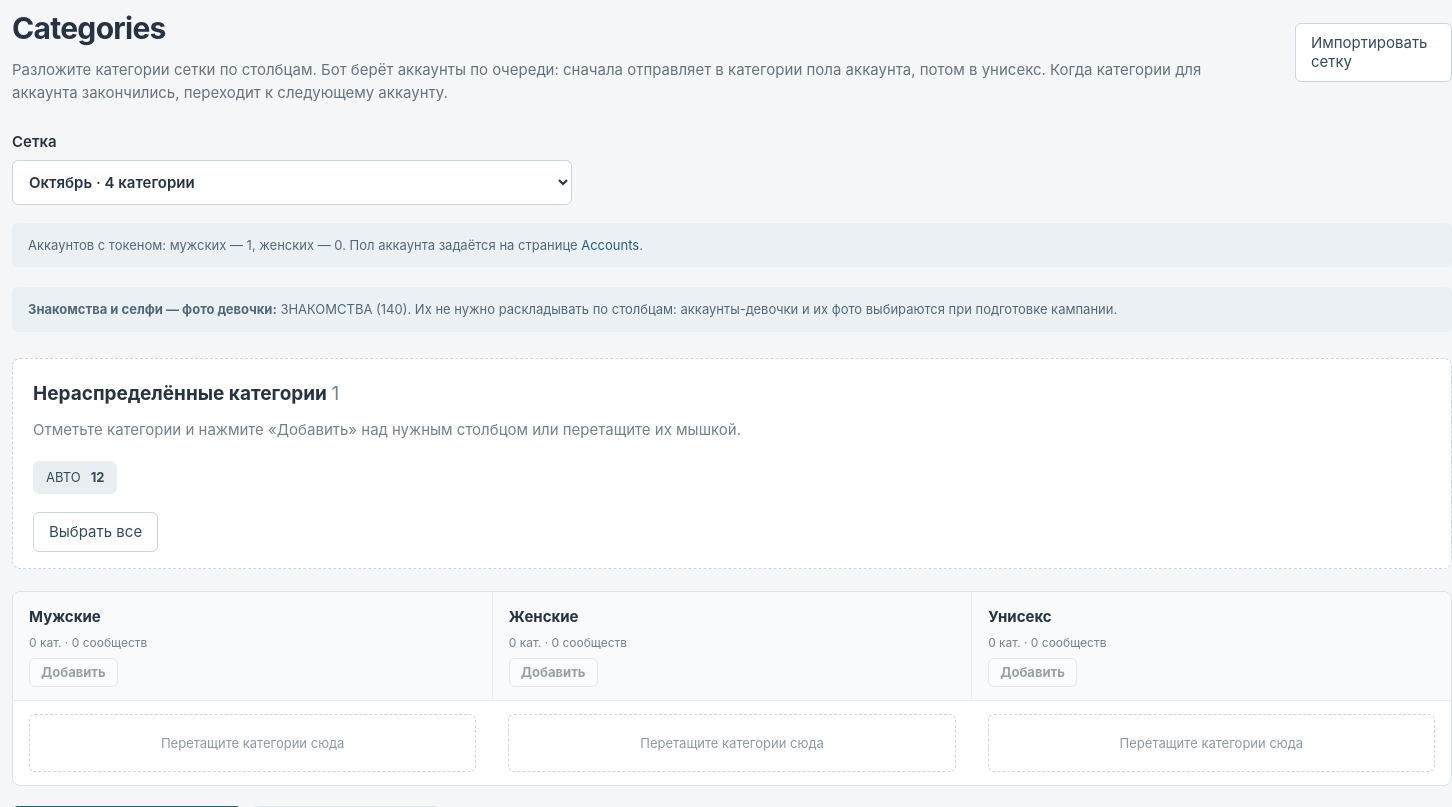
keeps dating/selfie categories out of the gender columns
The image size is (1452, 807).
Expected: the text "Знакомства и селфи — фото девочки:" is shown, [28,301,277,317]
Expected: the text "ЗНАКОМСТВА (140)" is shown, [280,301,407,317]
Click the button "АВТО 12".
click(75, 478)  # box [33,461,118,494]
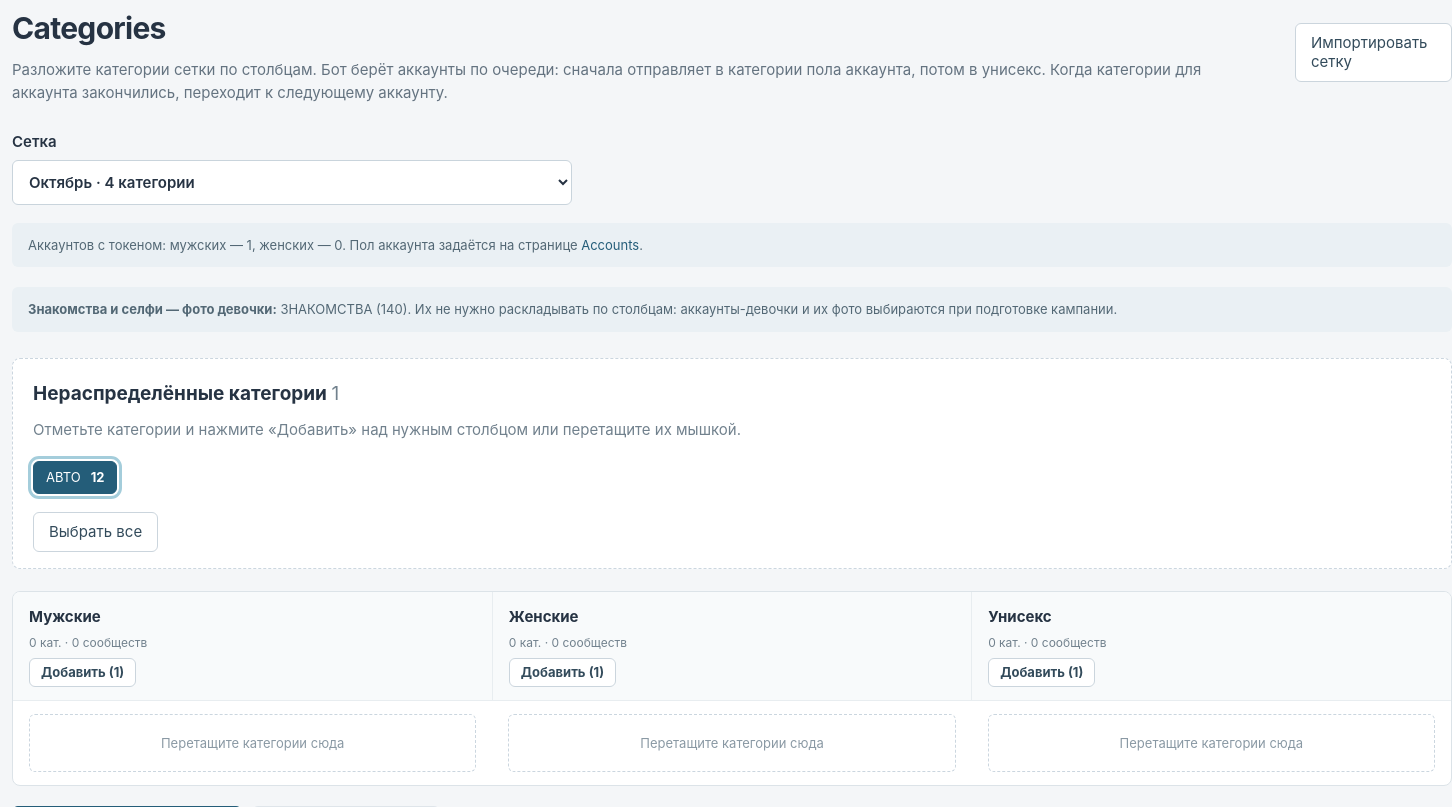
Click the button with aria-label "Добавить выбранные в «Мужские»".
click(83, 673)  # box [29,658,136,687]
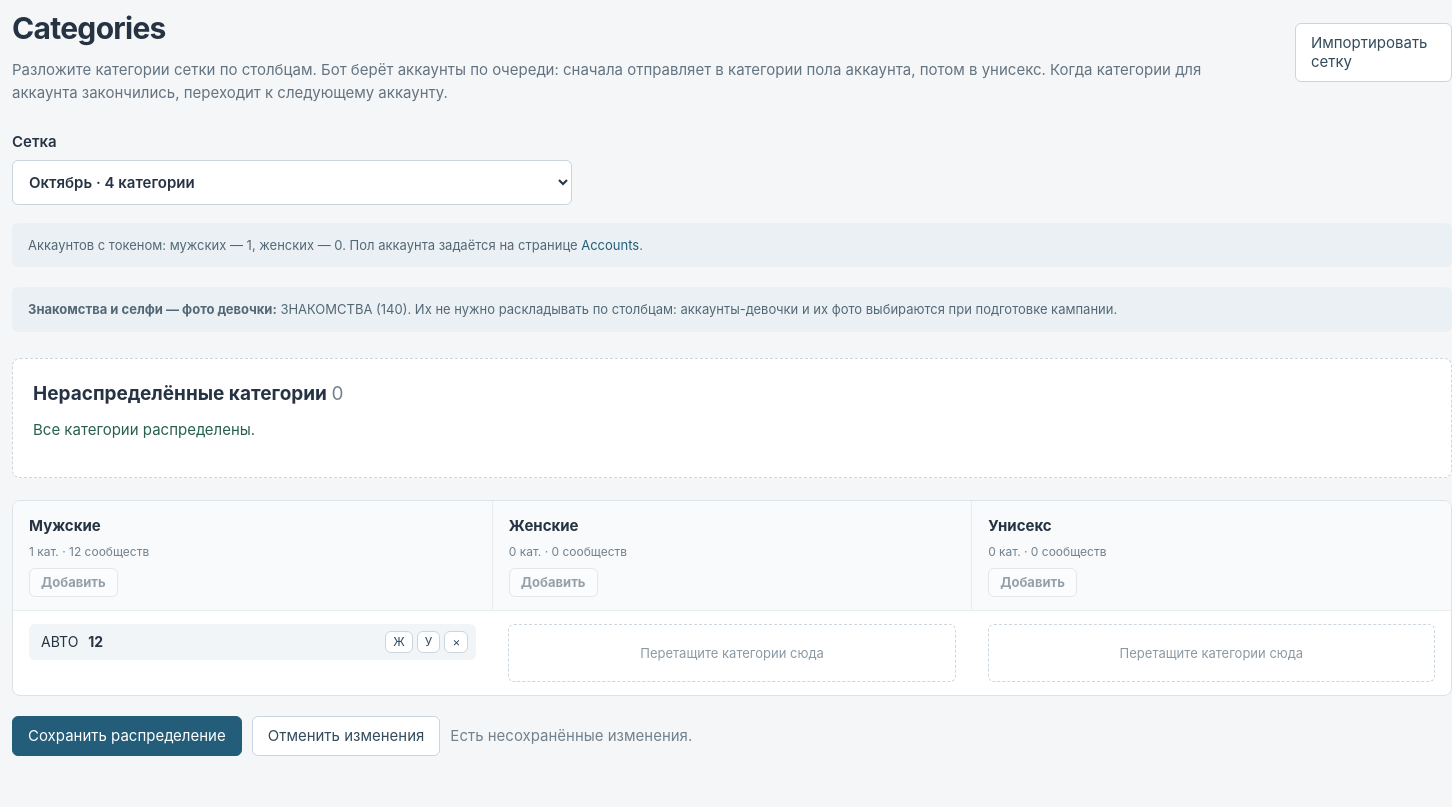
Click the button "Сохранить распределение".
click(127, 736)  # box [12,716,242,756]
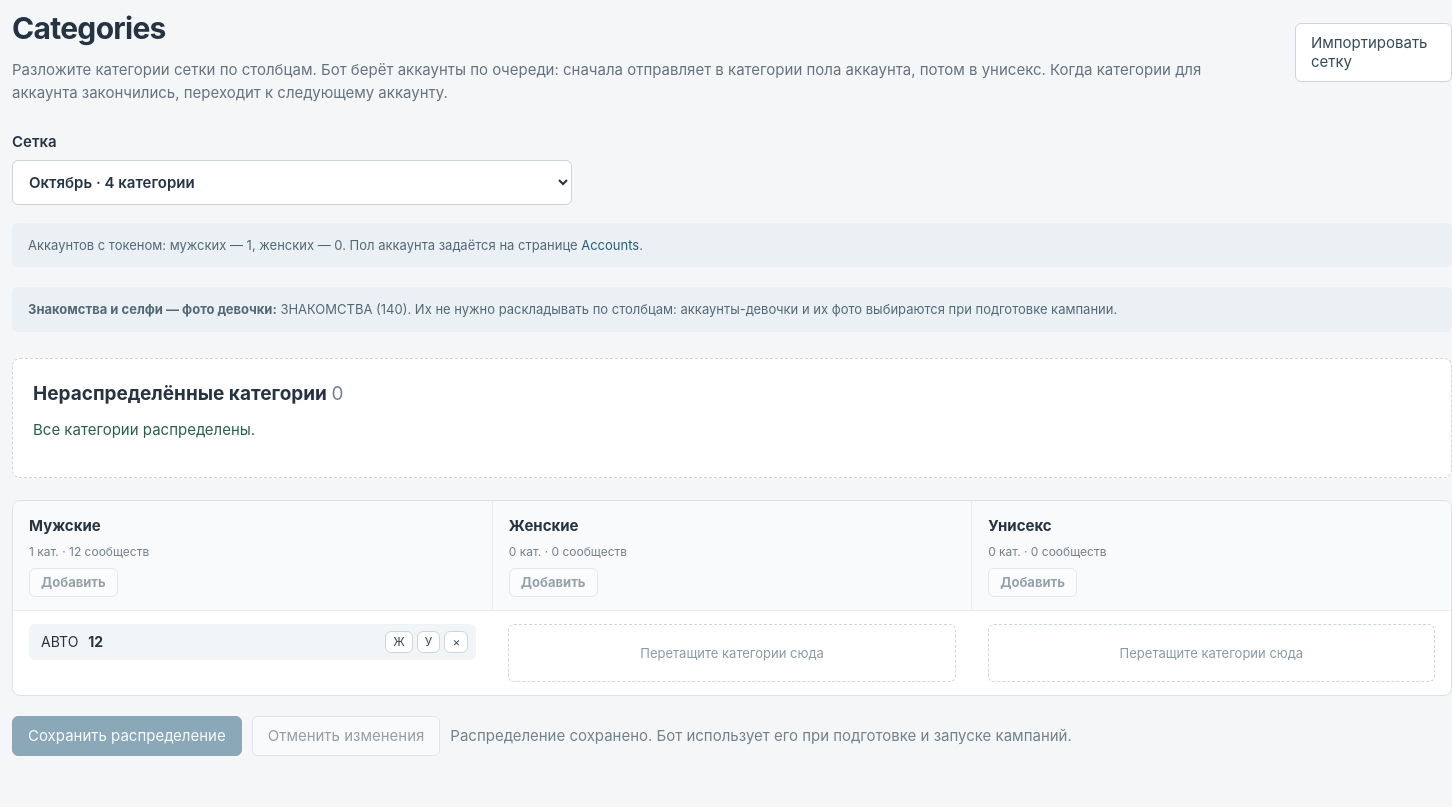
Result: the text "Распределение сохранено. Бот использует его при подготовке и запуске кампаний." is shown at [450,724,1072,748]
